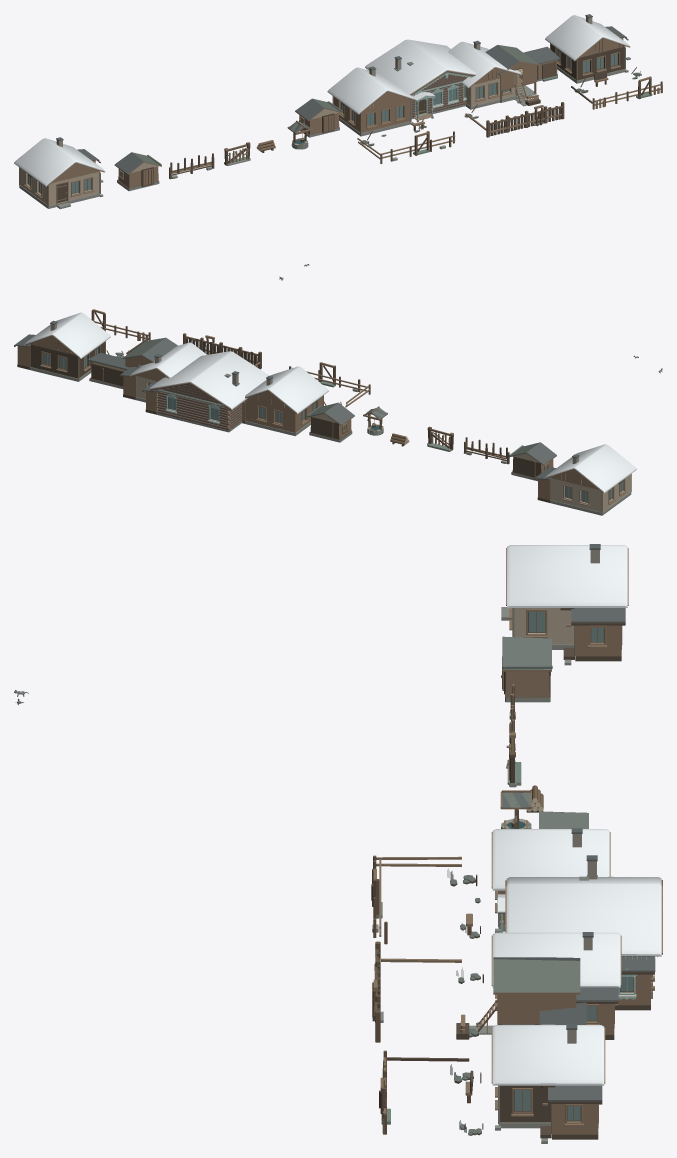
File: urman_village_exterior_kit.glb
3 views of the same model, one above another, from view 1: azimuth 30°, elevation 25°; view 2: azimuth 150°, elevation 25°; view 3: azimuth 270°, elevation 25° (orthographic). The views are drawn at different scales.
Parts seen in each view (by area): view 1: HeroHouse_RoofSnow_LOD0, DwellingFacade_RoofSnow_LOD0, VariantA_TimberGable_Dwelling_RoofSnow_LOD0, VariantC_BanyaYard_Dwelling_RoofSnow_LOD0, VariantB_PlasterAnnex_Dwelling_RoofSnow_LOD0, VariantA_TimberGable_Dwelling_Street_Wall_LOD0, VariantC_BanyaYard_Dwelling_Street_Wall_LOD0, HeroYardShed_Roof_LOD0, DwellingFacade_Street_Wall_LOD0, VariantB_PlasterAnnex_Dwelling_Street_Wall_LOD0, OutbuildingShed_Roof_LOD0, VariantA_Shed_Roof_LOD0 (+1 smaller); view 2: HeroHouse_RoofSnow_LOD0, DwellingFacade_RoofSnow_LOD0, VariantA_TimberGable_Dwelling_RoofSnow_LOD0, VariantC_BanyaYard_Dwelling_RoofSnow_LOD0, VariantB_PlasterAnnex_Dwelling_RoofSnow_LOD0, DwellingFacade_Rear_Wall_LOD0, VariantC_BanyaYard_Dwelling_Rear_Wall_LOD0, VariantA_TimberGable_Dwelling_Rear_Wall_LOD0, HeroYardShed_Roof_LOD0, VariantA_Shed_Wall_LOD0, VariantC_Utility_Wall_LOD0, VariantA_Shed_Roof_LOD0 (+7 smaller); view 3: HeroHouse_RoofSnow_LOD0, DwellingFacade_RoofSnow_LOD0, VariantC_BanyaYard_Dwelling_RoofSnow_LOD0, VariantA_TimberGable_Dwelling_RoofSnow_LOD0, VariantB_PlasterAnnex_Dwelling_RoofSnow_LOD0, HeroYardShed_Roof_LOD0, HeroYardShed_Right_Wall_LOD0, OutbuildingShed_Roof_LOD0, DwellingFacade_Right_Wall_LOD0, VariantC_BanyaYard_Dwelling_Right_Wall_LOD0, DwellingFacade_SeniOuter_Wall_LOD0, OutbuildingShed_Wall_LOD0 (+3 smaller).
Boxes of the visible parts, <box> form: HeroHouse_RoofSnow_LOD0: <box>365,39,476,94</box>; DwellingFacade_RoofSnow_LOD0: <box>14,138,105,186</box>; VariantA_TimberGable_Dwelling_RoofSnow_LOD0: <box>327,67,416,114</box>; VariantC_BanyaYard_Dwelling_RoofSnow_LOD0: <box>545,15,630,61</box>; VariantB_PlasterAnnex_Dwelling_RoofSnow_LOD0: <box>448,41,521,88</box>; VariantA_TimberGable_Dwelling_Street_Wall_LOD0: <box>361,99,410,132</box>; VariantC_BanyaYard_Dwelling_Street_Wall_LOD0: <box>577,46,624,80</box>; HeroYardShed_Roof_LOD0: <box>485,45,539,74</box>; DwellingFacade_Street_Wall_LOD0: <box>49,172,99,205</box>; VariantB_PlasterAnnex_Dwelling_Street_Wall_LOD0: <box>471,75,515,106</box>; OutbuildingShed_Roof_LOD0: <box>114,152,161,174</box>; VariantA_Shed_Roof_LOD0: <box>295,98,342,121</box>; HeroHouse_RoofSnow_LOD0: <box>149,351,269,409</box>; DwellingFacade_RoofSnow_LOD0: <box>544,444,636,493</box>; VariantA_TimberGable_Dwelling_RoofSnow_LOD0: <box>245,366,328,414</box>; VariantC_BanyaYard_Dwelling_RoofSnow_LOD0: <box>24,312,110,358</box>; VariantB_PlasterAnnex_Dwelling_RoofSnow_LOD0: <box>130,342,206,377</box>; DwellingFacade_Rear_Wall_LOD0: <box>550,477,601,512</box>; VariantC_BanyaYard_Dwelling_Rear_Wall_LOD0: <box>30,344,77,378</box>; VariantA_TimberGable_Dwelling_Rear_Wall_LOD0: <box>245,399,294,432</box>; HeroYardShed_Roof_LOD0: <box>122,337,177,362</box>; VariantA_Shed_Wall_LOD0: <box>310,417,351,439</box>; VariantC_Utility_Wall_LOD0: <box>91,362,125,386</box>; VariantA_Shed_Roof_LOD0: <box>307,402,354,425</box>; HeroHouse_RoofSnow_LOD0: <box>506,876,661,955</box>; DwellingFacade_RoofSnow_LOD0: <box>507,545,627,607</box>; VariantC_BanyaYard_Dwelling_RoofSnow_LOD0: <box>492,1024,604,1085</box>; VariantA_TimberGable_Dwelling_RoofSnow_LOD0: <box>492,829,609,890</box>; VariantB_PlasterAnnex_Dwelling_RoofSnow_LOD0: <box>492,932,620,987</box>; HeroYardShed_Roof_LOD0: <box>493,957,580,994</box>; HeroYardShed_Right_Wall_LOD0: <box>497,994,576,1022</box>; OutbuildingShed_Roof_LOD0: <box>502,636,551,671</box>; DwellingFacade_Right_Wall_LOD0: <box>514,608,574,643</box>; VariantC_BanyaYard_Dwelling_Right_Wall_LOD0: <box>500,1085,550,1122</box>; DwellingFacade_SeniOuter_Wall_LOD0: <box>575,625,621,656</box>; OutbuildingShed_Wall_LOD0: <box>505,671,549,696</box>.
Bounding box in the file's own units: 71.77 × 5.37 × 36.12.
